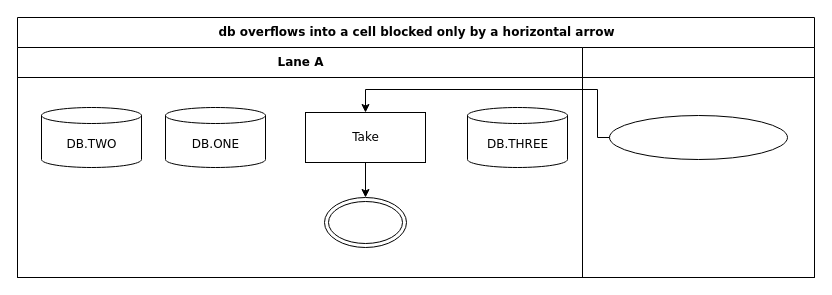
This 832x295 diagram has some shape labels left out. The shapes that lost their labels are listed below. From the top down, each one's box as (x1, y1, x2, y2) in pixels, then its label:
(608, 114, 788, 160): In from right lane
(582, 46, 814, 278): Lane B
(324, 196, 406, 248): Done
